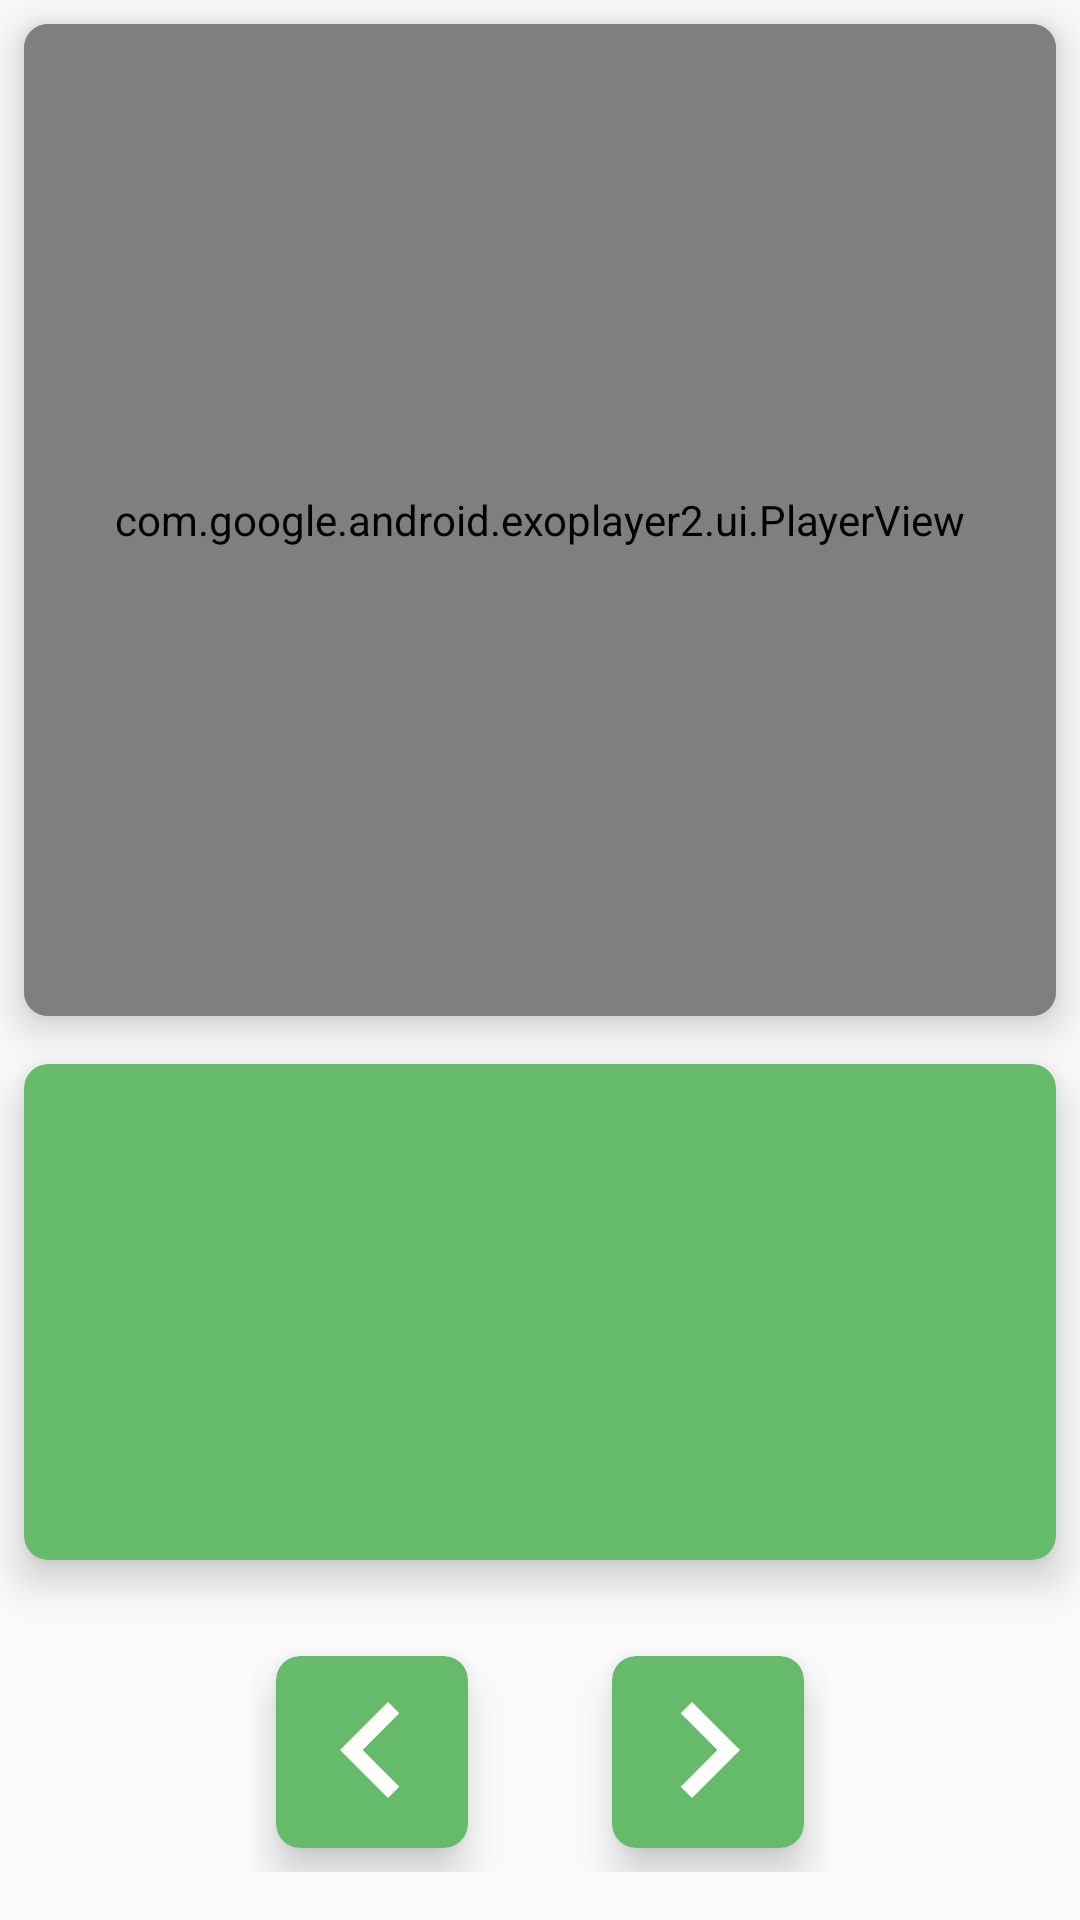

Point at icon controls on the screen. Image size 1080w x 1920h, points as (x,y).
Go to next step: (708,1752)
